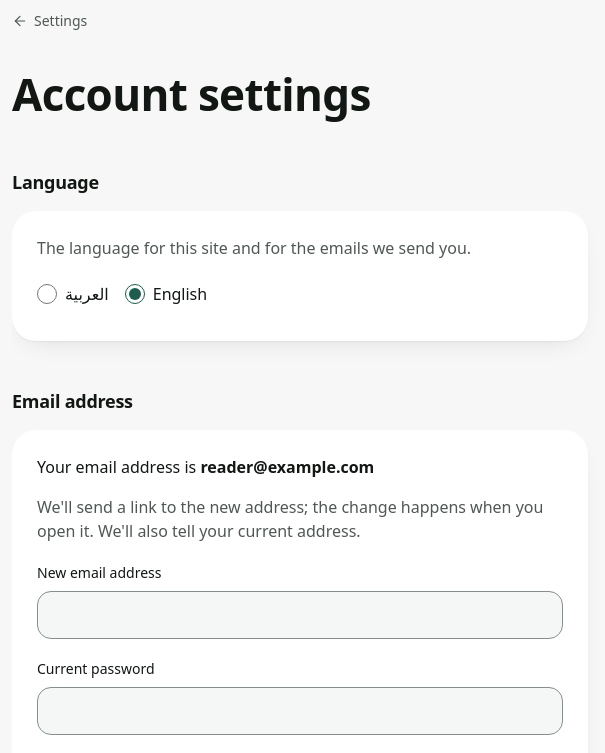
Test case: AccountPage › asks for a code too when two-step verification is on, and shows a wrong password
Type "new@example.org" into the field labelled "New email address" at (300, 614), box [37, 590, 563, 638]
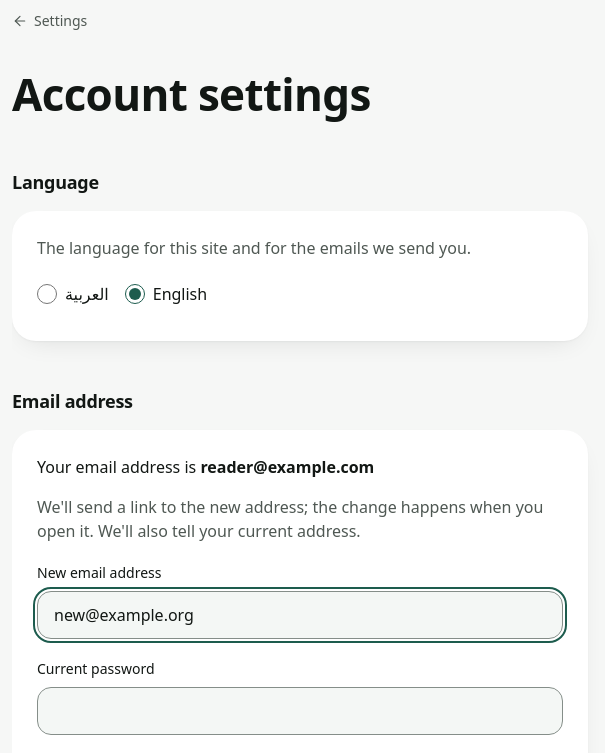
Type "wrong password" into the password field labelled "Current password" at (300, 710), box [37, 686, 563, 734]
(page scrolled)
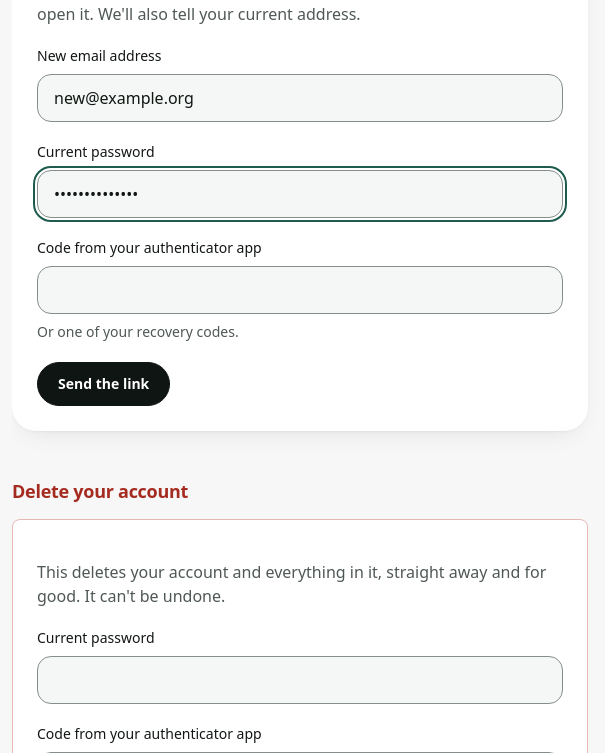
Click the button "Send the link" at (104, 384), box [37, 362, 170, 406]
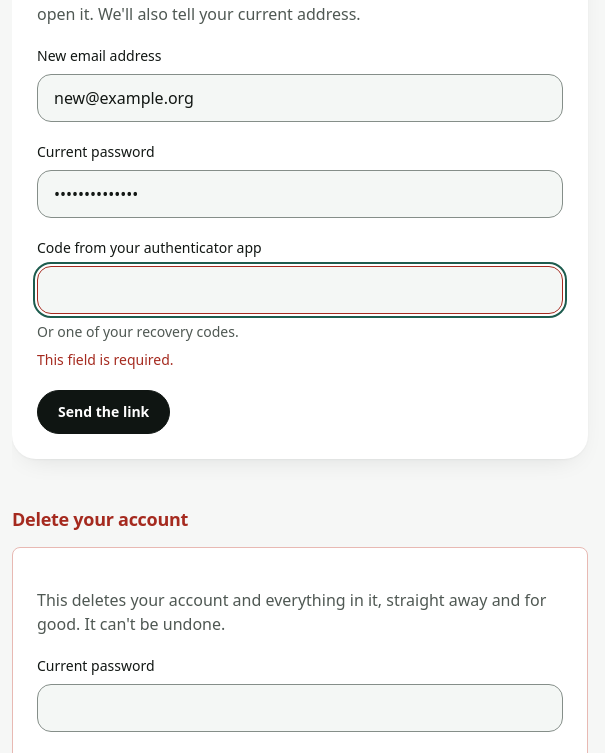
Expected: the text "This field is required." is shown once, [37, 350, 174, 368]
Type "123456" into the field labelled "Code from your authenticator app" at (300, 290), box [37, 266, 563, 314]
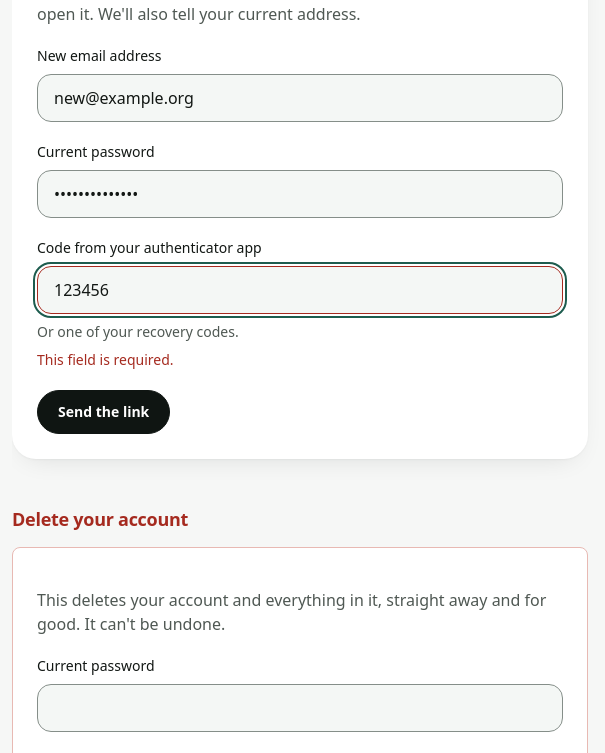
Click the button "Send the link" at (104, 412), box [37, 390, 170, 434]
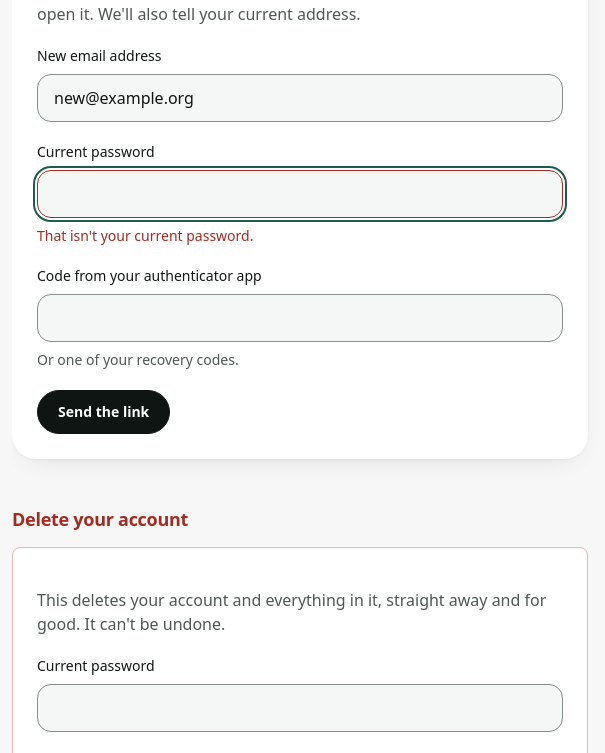
Expected: the text "That isn't your current password." is shown, [37, 226, 254, 244]
Expected: the password field labelled "Current password" below "New email address" is empty, [37, 170, 563, 218]
